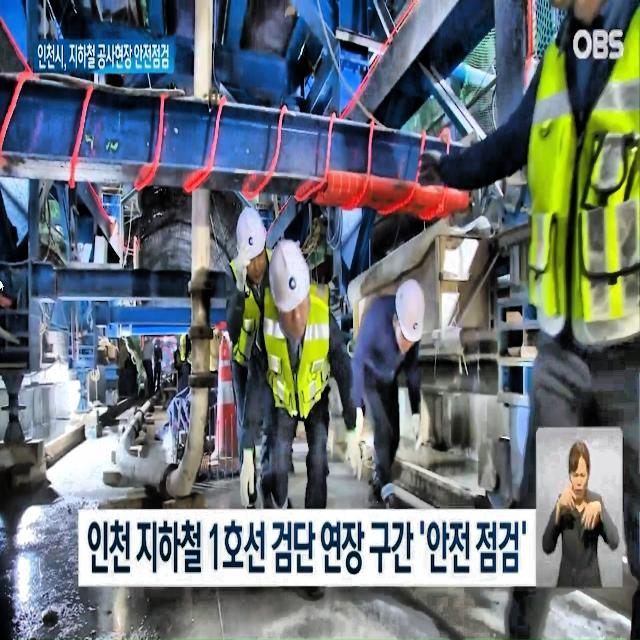safety_helmet: (266, 242, 312, 318), (396, 280, 428, 348), (235, 203, 269, 266)
safety_jacket: (526, 16, 640, 342), (263, 286, 335, 420), (228, 254, 284, 371)
